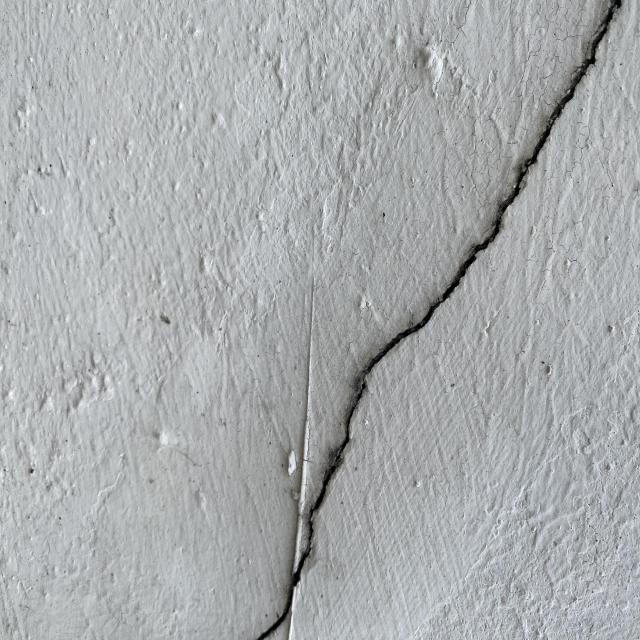SurfaceCrack: (253, 0, 639, 639)
